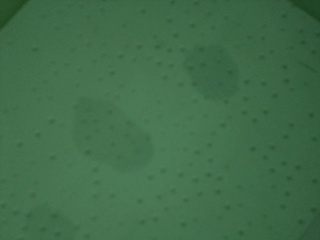Water_detected: (70, 104, 145, 167), (176, 45, 221, 87), (35, 201, 68, 237)
